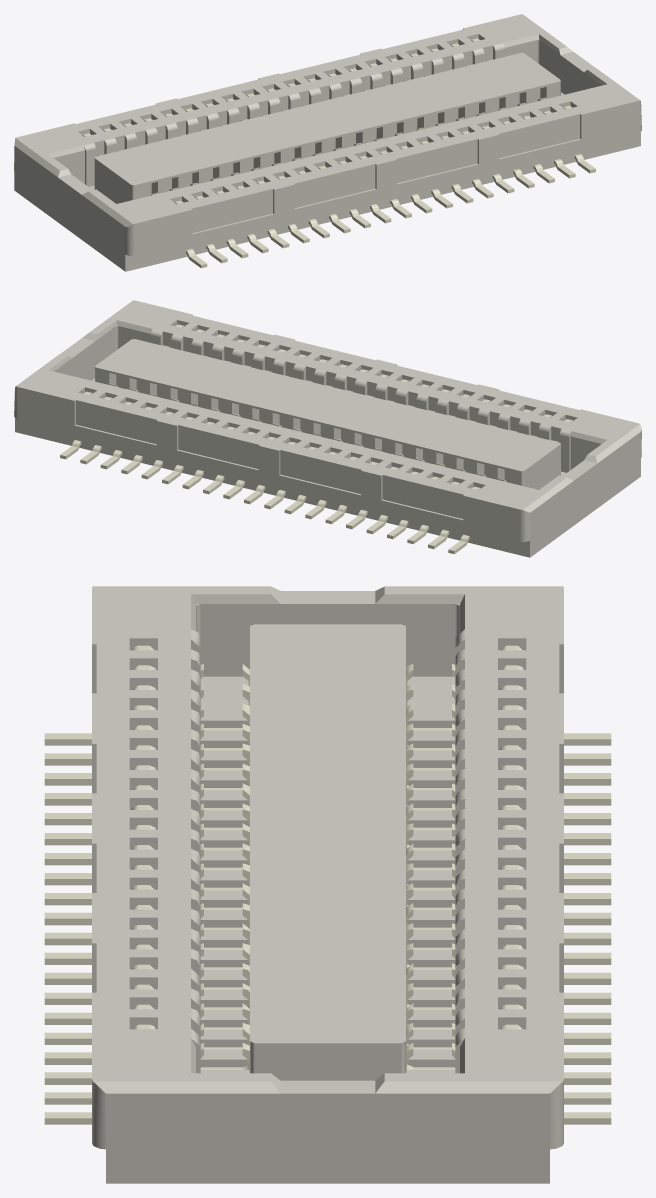
File: kc-molex_slimstack_54722-0404_2x20_p0.50mm_vertical.glb
The picture shows the model from 3 angles, top to bottom: view 1: azimuth 30°, elevation 25°; view 2: azimuth 150°, elevation 25°; view 3: azimuth 270°, elevation 25°; orthographic projection. The views are drawn at different scales.
Parts seen in each view (by area): view 1: 0.6666666666666666_0.6666666666666666_0.5833333333333334_0.8, 0.75_0.75_0.5833333333333334_0; view 2: 0.6666666666666666_0.6666666666666666_0.5833333333333334_0.8, 0.75_0.75_0.5833333333333334_0; view 3: 0.6666666666666666_0.6666666666666666_0.5833333333333334_0.8, 0.75_0.75_0.5833333333333334_0.
Part boxes in pixels (x1,y1,x2,y2): 0.6666666666666666_0.6666666666666666_0.5833333333333334_0.8: [14, 14, 641, 271]; 0.75_0.75_0.5833333333333334_0: [82, 38, 595, 268]; 0.6666666666666666_0.6666666666666666_0.5833333333333334_0.8: [14, 300, 641, 557]; 0.75_0.75_0.5833333333333334_0: [60, 324, 573, 554]; 0.6666666666666666_0.6666666666666666_0.5833333333333334_0.8: [92, 586, 563, 1183]; 0.75_0.75_0.5833333333333334_0: [44, 645, 611, 1124].
Bounding box in the file's own units: 1.26 × 0.1151 × 0.6.
